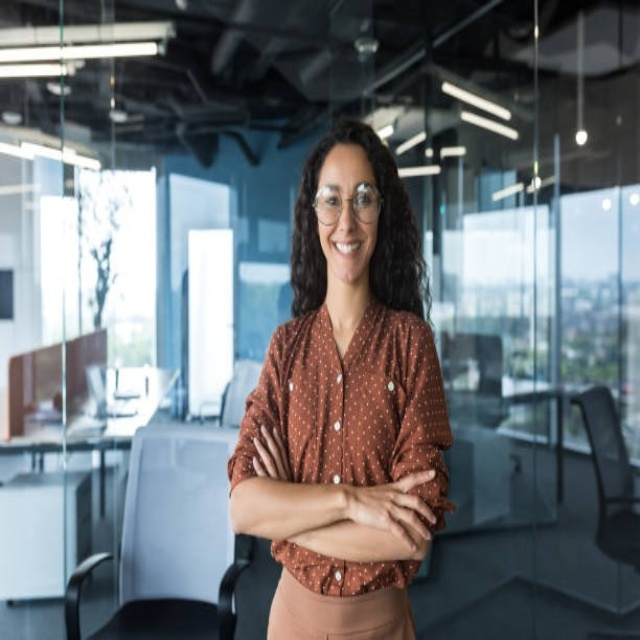Gafas: (312, 184, 385, 226)
Sin_guantes: (343, 470, 442, 558), (249, 424, 292, 483)
Sin_mascara: (327, 234, 367, 271)
